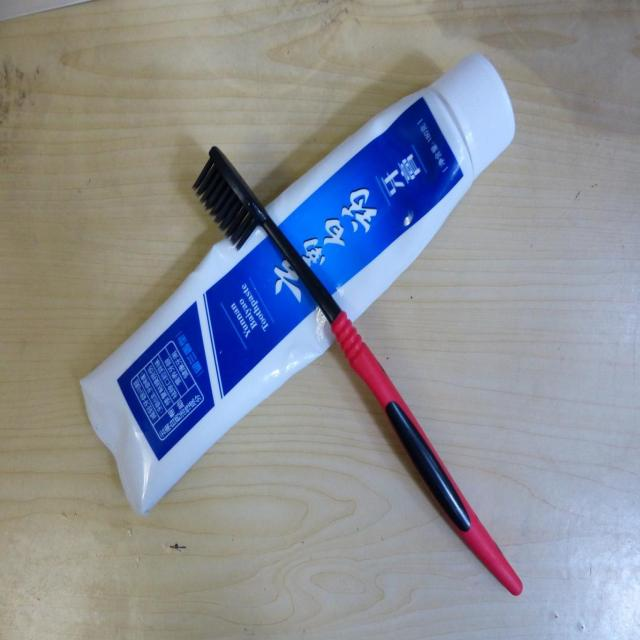Toothpaste: (67, 47, 545, 525)
